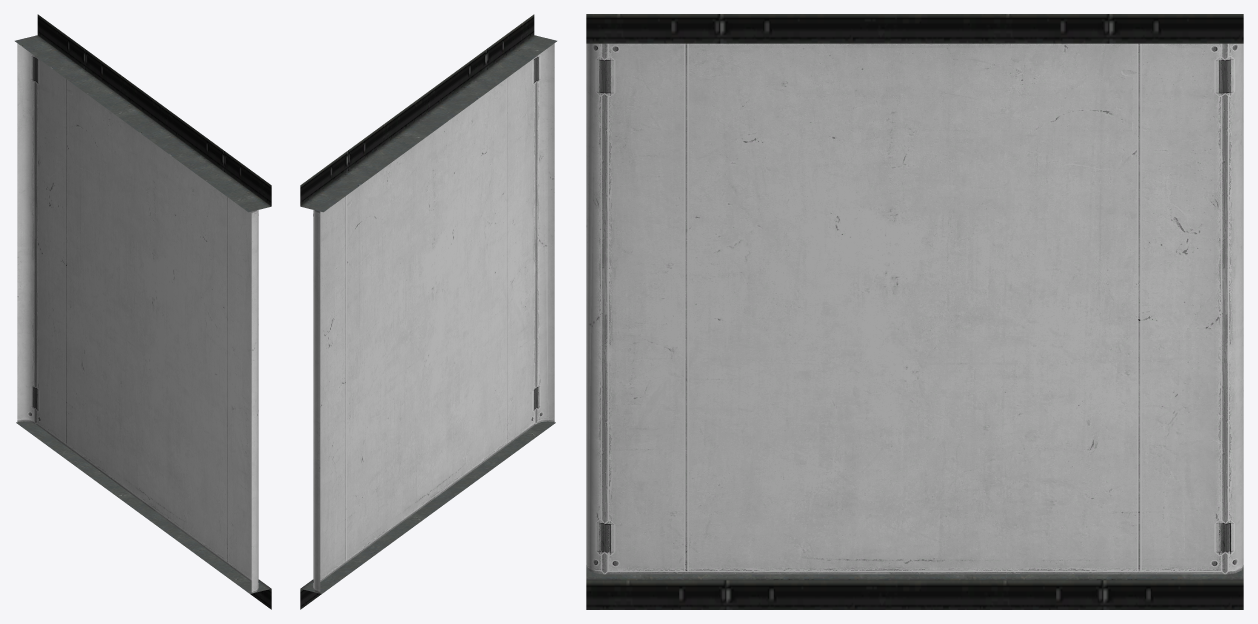
The model's file is Neon_Wall_4x4_01B.FBX.
3 renders of one model, left to right at view 1: azimuth 30°, elevation 25°; view 2: azimuth 150°, elevation 25°; view 3: azimuth 270°, elevation 25°, orthographic. The views are drawn at different scales.
Parts seen in each view (by area): view 1: Neon_Wall_4x4_01B; view 2: Neon_Wall_4x4_01B; view 3: Neon_Wall_4x4_01B.
Boxes of the visible parts, x1,y1,x2,y2 form: Neon_Wall_4x4_01B: (15, 14, 271, 609); Neon_Wall_4x4_01B: (300, 14, 556, 609); Neon_Wall_4x4_01B: (586, 14, 1243, 609).
Size of the model in its own units: 0.2298 by 4 by 4.
